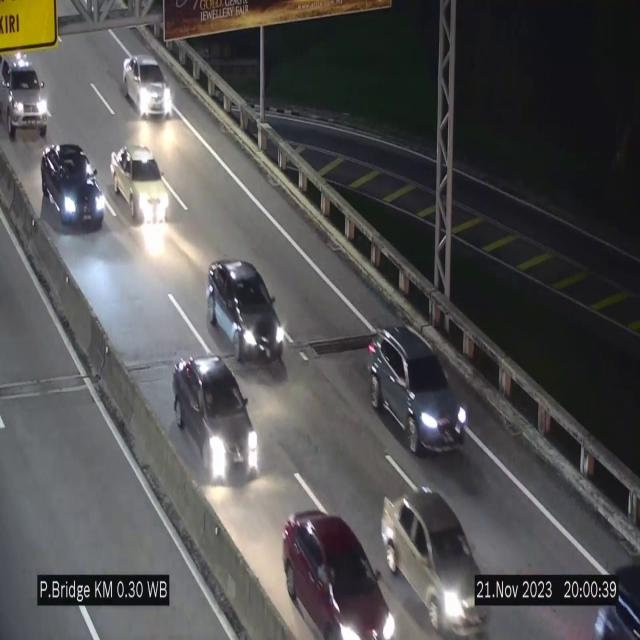Car: (384, 485, 490, 633), (276, 512, 394, 640), (373, 324, 467, 464), (173, 356, 260, 482), (207, 261, 286, 367), (42, 140, 114, 246), (112, 140, 174, 234), (0, 51, 52, 143), (122, 55, 172, 117)
